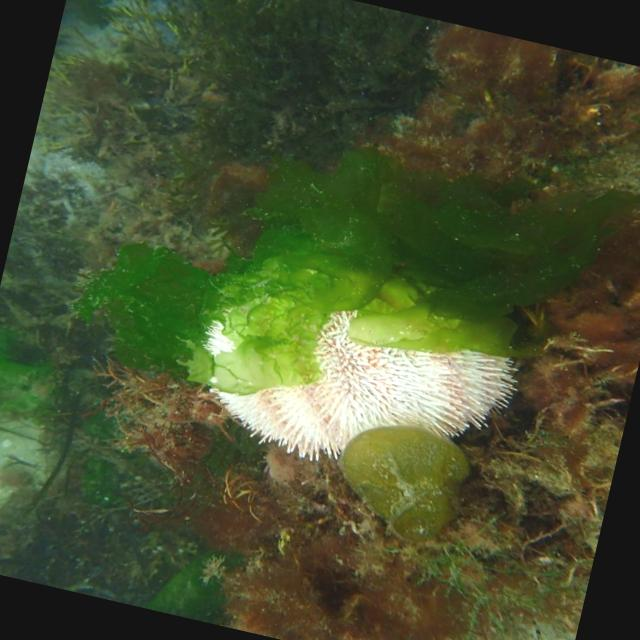Deniz Kestanesi: (176, 227, 538, 502)
